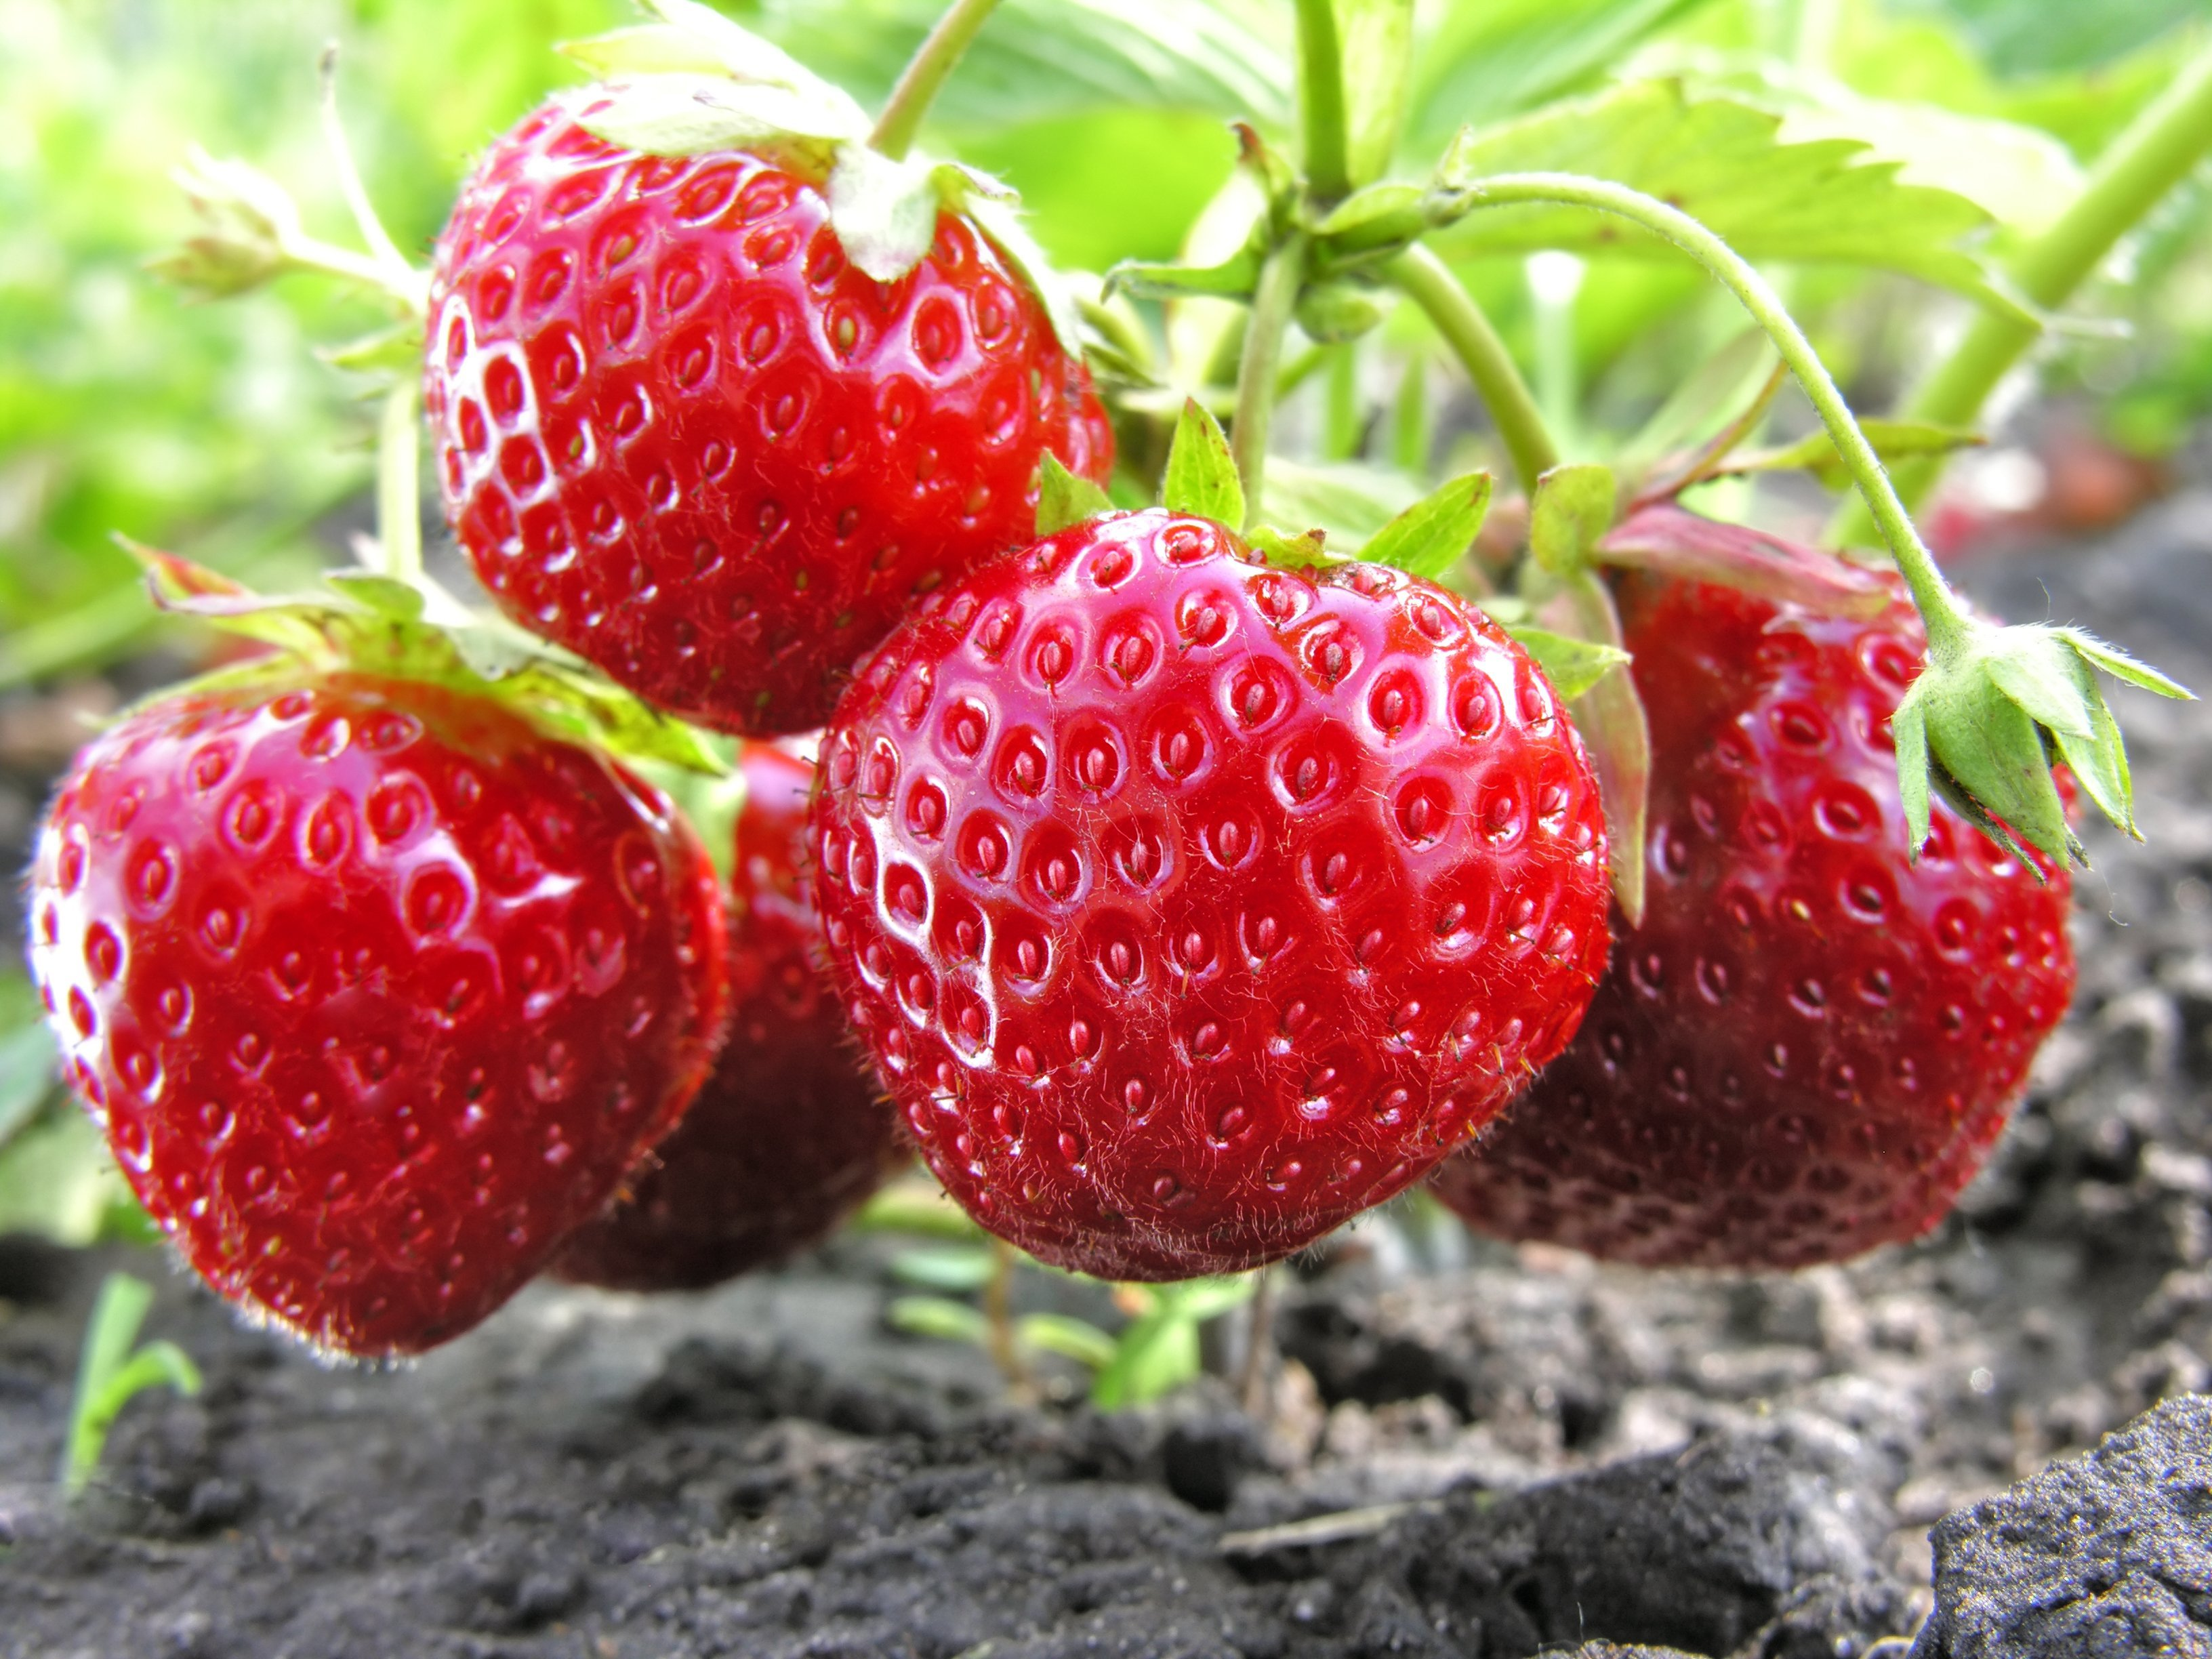ripe: (773, 490, 1625, 1300), (1397, 491, 2081, 1276), (28, 655, 745, 1368), (409, 80, 1115, 753), (472, 721, 937, 1276)
